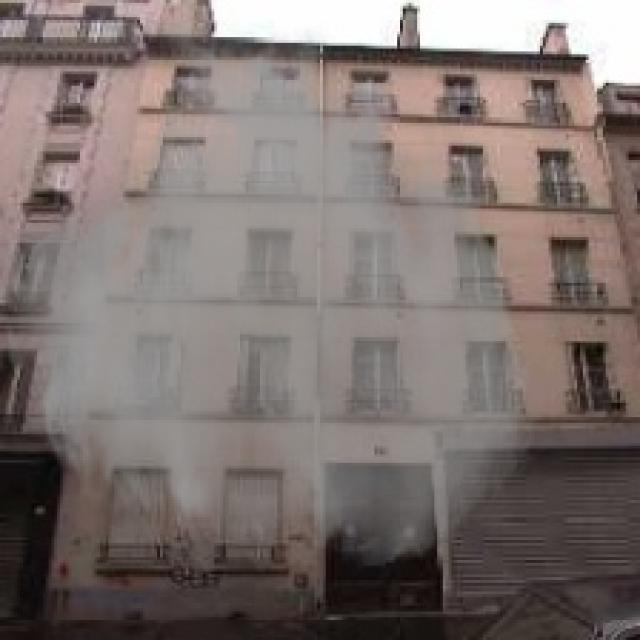Smoke: (0, 14, 540, 572)
